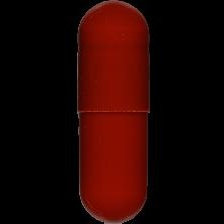21695-047: (0, 0, 224, 224)
